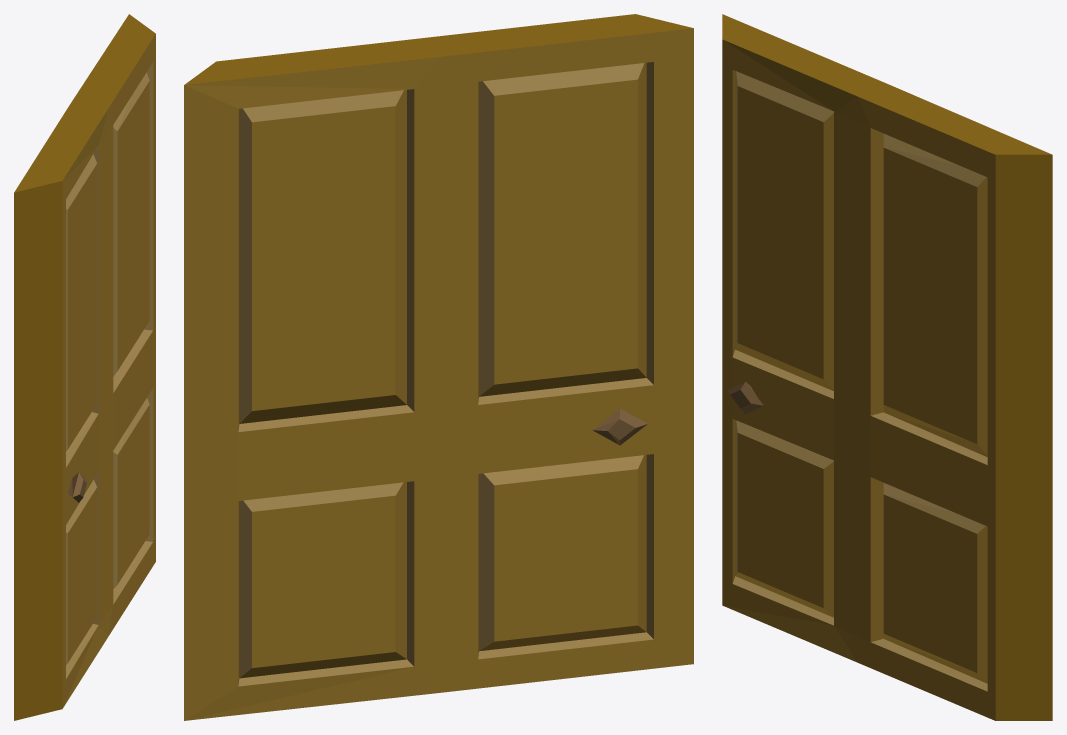
3 views of the same model, side by side, from view 1: azimuth 30°, elevation 25°; view 2: azimuth 150°, elevation 25°; view 3: azimuth 270°, elevation 25° (orthographic). The views are drawn at different scales.
Size of the model in its own units: 128 by 240 by 127.
Materials: 1 (1 with a texture image).
